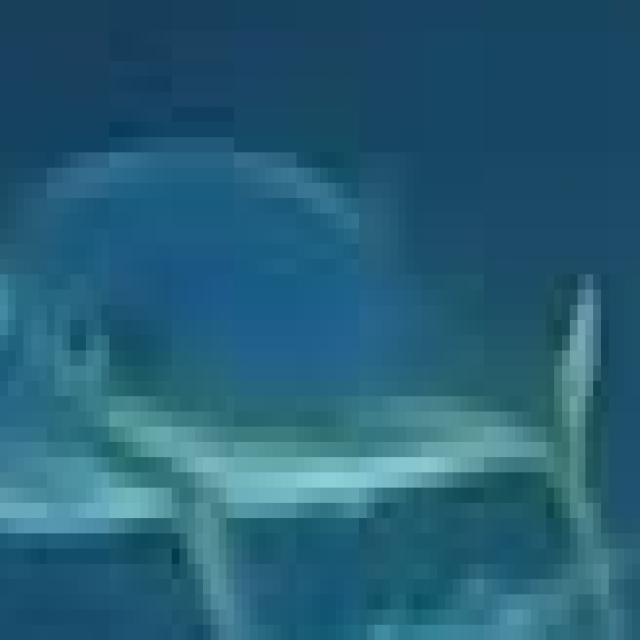fish: (0, 0, 632, 625)
